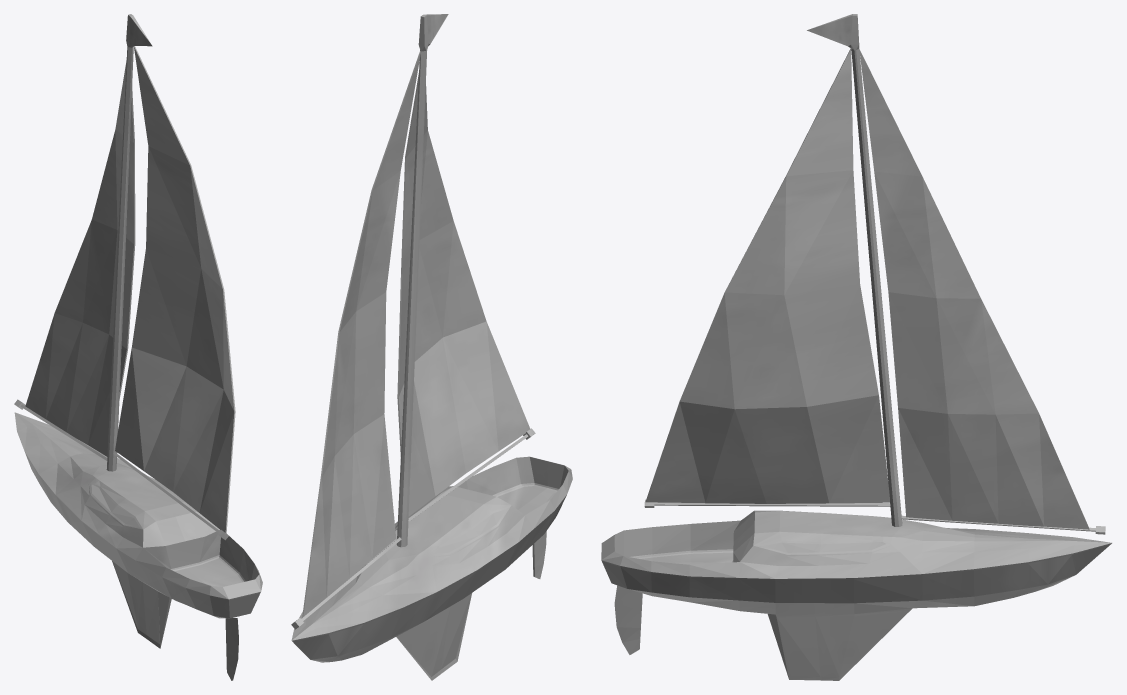
3 renders of one model, left to right at view 1: azimuth 30°, elevation 25°; view 2: azimuth 150°, elevation 25°; view 3: azimuth 270°, elevation 25°, orthographic. The views are drawn at different scales.
Visible parts, largest first — view 1: sailboat; view 2: sailboat; view 3: sailboat.
Boxes of the visible parts, <box> form: sailboat: <box>14,14,262,680</box>; sailboat: <box>291,14,572,680</box>; sailboat: <box>601,14,1111,680</box>.
Size of the model in its own units: 1.7 by 10.01 by 6.96.
Materials: 1 (1 with a texture image).
